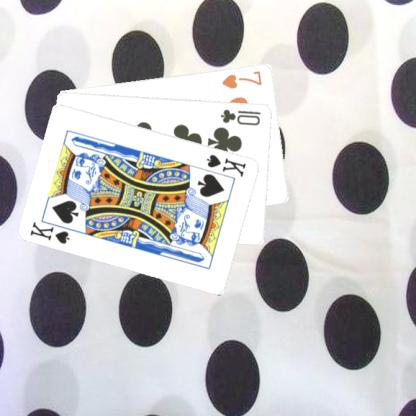10C: (218, 106, 263, 127)
7H: (219, 68, 264, 89)
KS: (27, 216, 78, 245), (204, 151, 248, 178)
